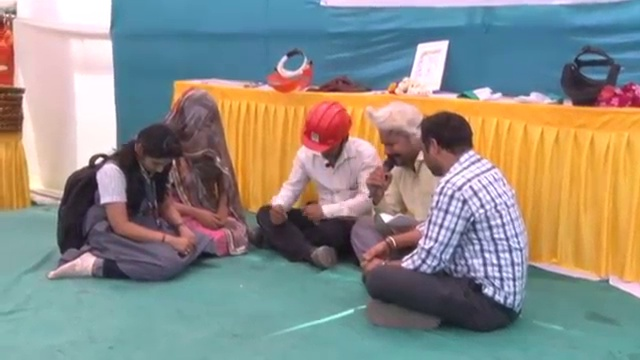helmet: (292, 97, 353, 150)
helmet_off: (420, 110, 478, 180), (373, 102, 426, 175), (167, 91, 226, 151), (126, 120, 180, 181)
helmet_on: (292, 96, 352, 170)
person: (364, 105, 529, 331), (49, 118, 202, 286), (250, 100, 383, 264), (153, 91, 248, 258), (350, 107, 442, 274)
